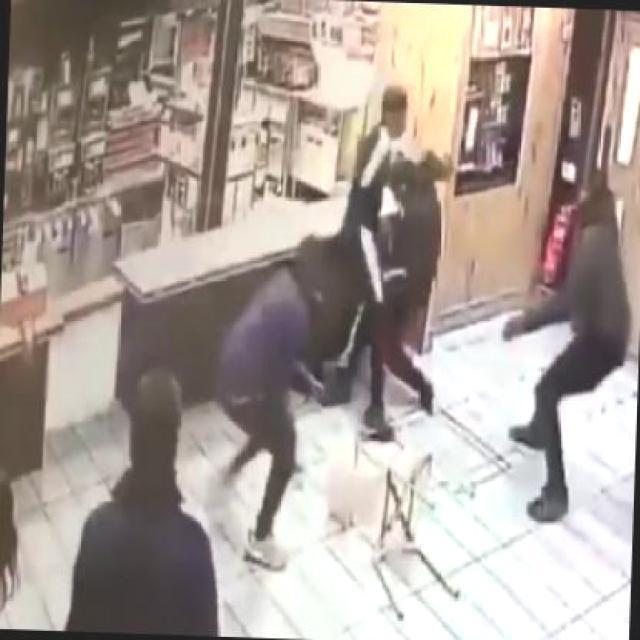fight: (319, 78, 456, 432)
